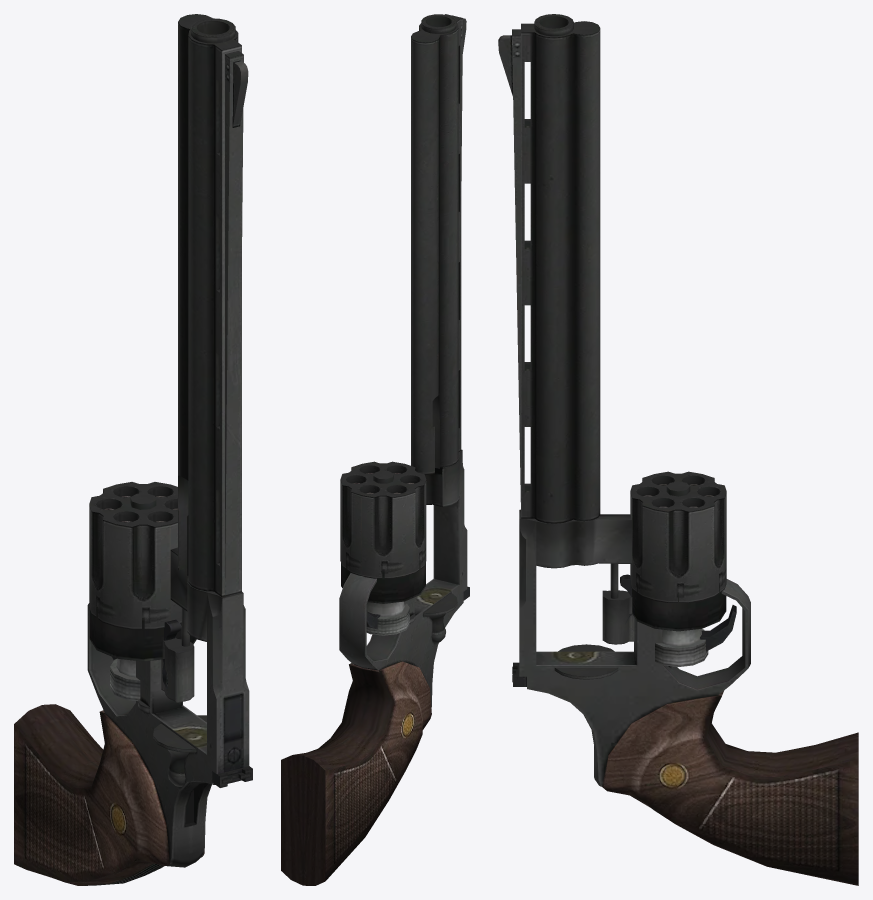
Rendered from ColtPython.obj.
3 views of the same model, side by side, from view 1: azimuth 30°, elevation 25°; view 2: azimuth 150°, elevation 25°; view 3: azimuth 270°, elevation 25° (orthographic). The views are drawn at different scales.
Visible parts, largest first — view 1: COLT_PYTHON_BODY, Revolver_cylinder, Model_Magazine, Revolver; view 2: COLT_PYTHON_BODY, Revolver_cylinder, Model_Magazine; view 3: COLT_PYTHON_BODY, Revolver_cylinder, Model_Magazine, Revolver.
Part boxes in pixels (<box>): COLT_PYTHON_BODY: <box>14,14,252,885</box>; Revolver_cylinder: <box>89,482,181,629</box>; Model_Magazine: <box>89,606,196,700</box>; Revolver: <box>161,608,194,703</box>; COLT_PYTHON_BODY: <box>281,14,469,885</box>; Revolver_cylinder: <box>340,461,426,578</box>; Model_Magazine: <box>341,560,425,635</box>; COLT_PYTHON_BODY: <box>498,14,858,885</box>; Revolver_cylinder: <box>630,471,726,602</box>; Model_Magazine: <box>632,582,726,666</box>; Revolver: <box>602,563,634,746</box>.
Bounding box in the file's own units: 0.0394 × 0.3904 × 0.1483.
2 materials, 2 textured.
